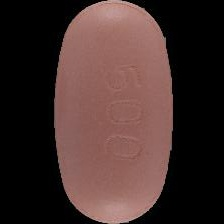54868-5260: (0, 0, 224, 224)
